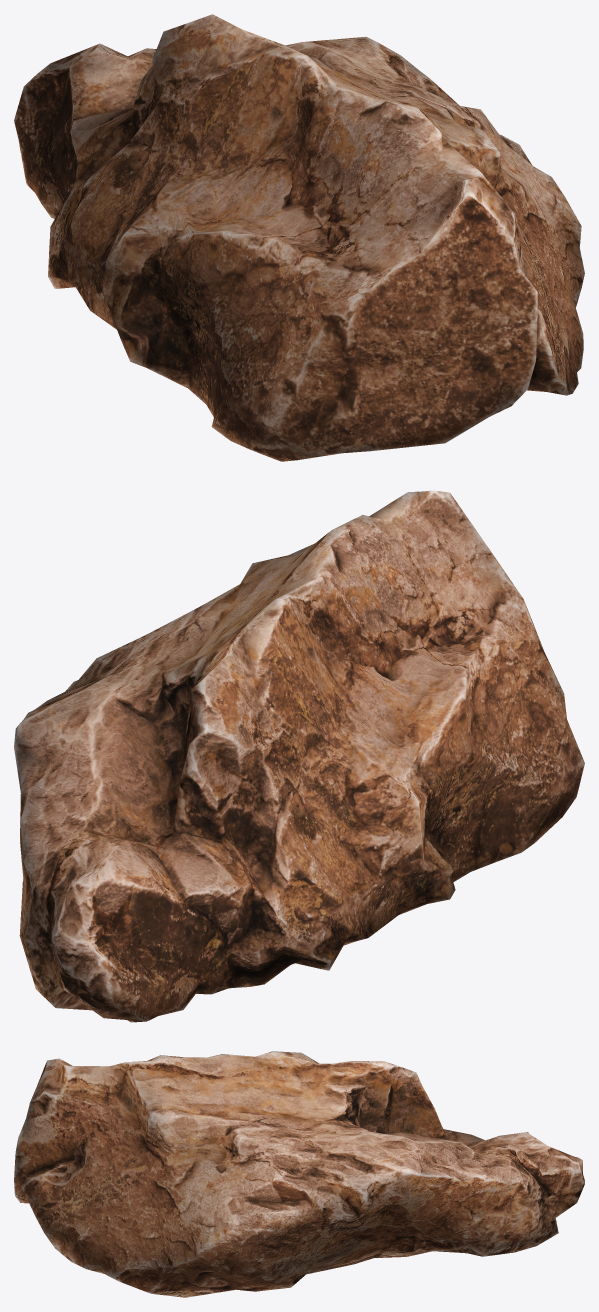
The model's file is rock5.obj.
3 views of the same model, one above another, from view 1: azimuth 30°, elevation 25°; view 2: azimuth 150°, elevation 25°; view 3: azimuth 270°, elevation 25° (orthographic). The views are drawn at different scales.
Parts seen in each view (by area): view 1: Rock_05_LOD0_Rock_05_LOD0.001; view 2: Rock_05_LOD0_Rock_05_LOD0.001; view 3: Rock_05_LOD0_Rock_05_LOD0.001.
Part boxes in pixels (x1=…): Rock_05_LOD0_Rock_05_LOD0.001: x1=14, y1=14, x2=584, y2=461; Rock_05_LOD0_Rock_05_LOD0.001: x1=14, y1=490, x2=584, y2=1022; Rock_05_LOD0_Rock_05_LOD0.001: x1=14, y1=1051, x2=584, y2=1297.
Bounding box in the file's own units: 3.82 × 2.8 × 6.96.
Materials: 1 (1 with a texture image).
